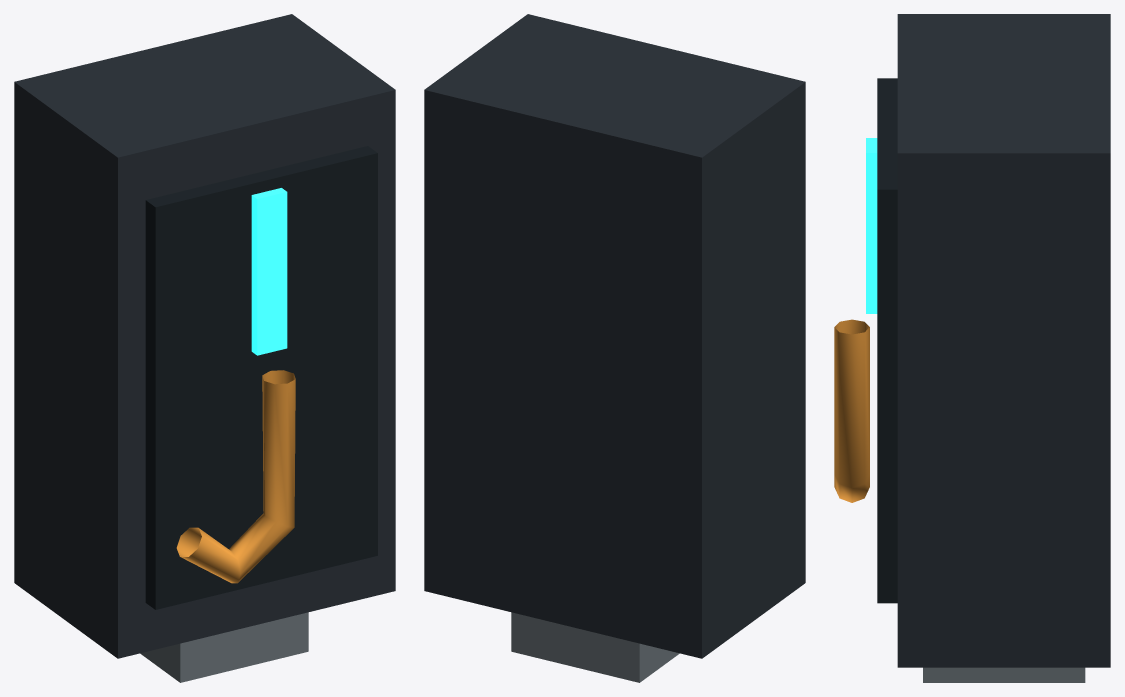
Rendered from salvage_module.glb.
3 renders of one model, left to right at view 1: azimuth 30°, elevation 25°; view 2: azimuth 150°, elevation 25°; view 3: azimuth 270°, elevation 25°, orthographic. The views are drawn at different scales.
Visible parts, largest first — view 1: Cartridge, CartridgeFace, HookGlyph, CapacityStripe, LockTab; view 2: Cartridge, LockTab; view 3: Cartridge, CartridgeFace, HookGlyph, LockTab, CapacityStripe.
Part boxes in pixels (left/top/right/bottom): Cartridge: left=14, top=14, right=395, bottom=658; CartridgeFace: left=145, top=146, right=377, bottom=609; HookGlyph: left=176, top=370, right=295, bottom=583; CapacityStripe: left=251, top=188, right=287, bottom=355; LockTab: left=140, top=612, right=308, bottom=682; Cartridge: left=424, top=14, right=805, bottom=658; LockTab: left=511, top=612, right=679, bottom=682; Cartridge: left=897, top=14, right=1110, bottom=667; CartridgeFace: left=877, top=78, right=897, bottom=603; HookGlyph: left=834, top=319, right=869, bottom=502; LockTab: left=923, top=667, right=1085, bottom=682; CapacityStripe: left=866, top=138, right=877, bottom=313.
Size of the model in its own units: 0.65 by 1.24 by 0.545.
